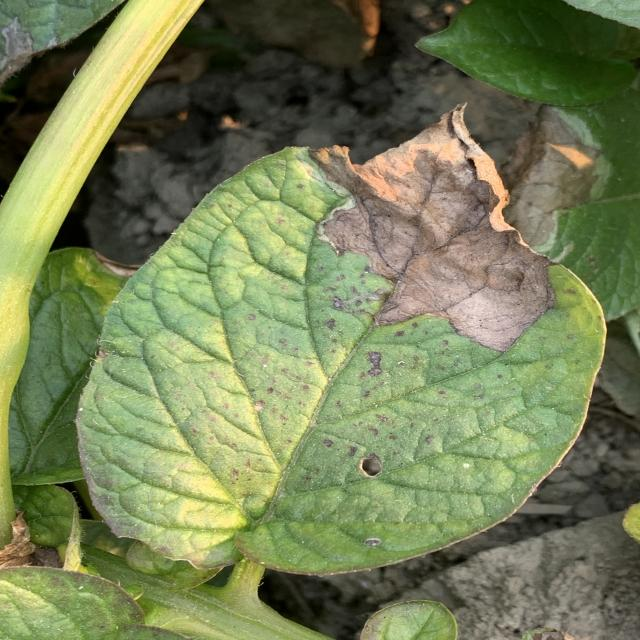lateblight: (310, 105, 555, 351)
